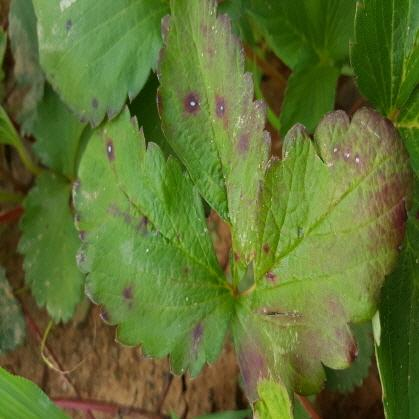Leaf Spot: (229, 105, 412, 410), (71, 103, 237, 379), (154, 0, 272, 289), (30, 0, 170, 129)
